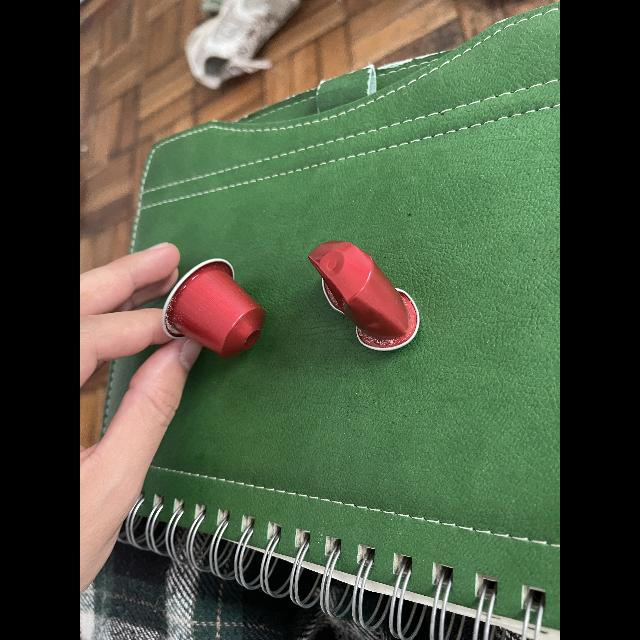damaged_capsule: (306, 235, 438, 362)
intact_capsule: (162, 245, 272, 372)
